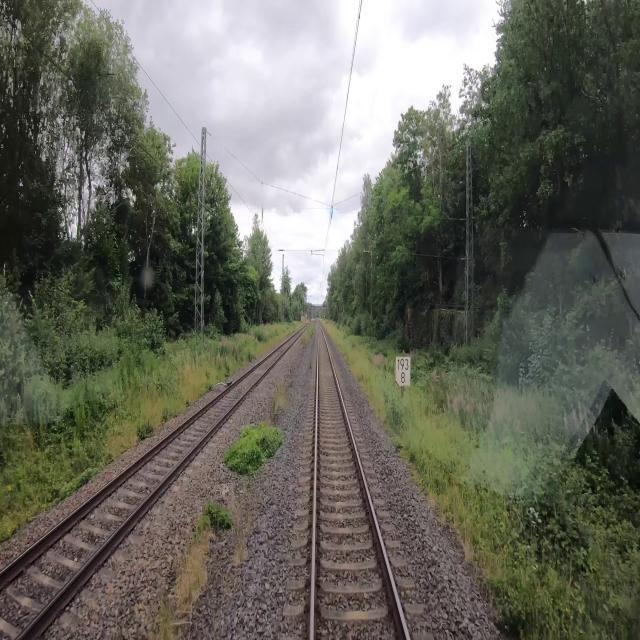Plant: (153, 500, 234, 639), (224, 420, 283, 474), (273, 381, 290, 415), (301, 323, 314, 345), (236, 535, 245, 562)
